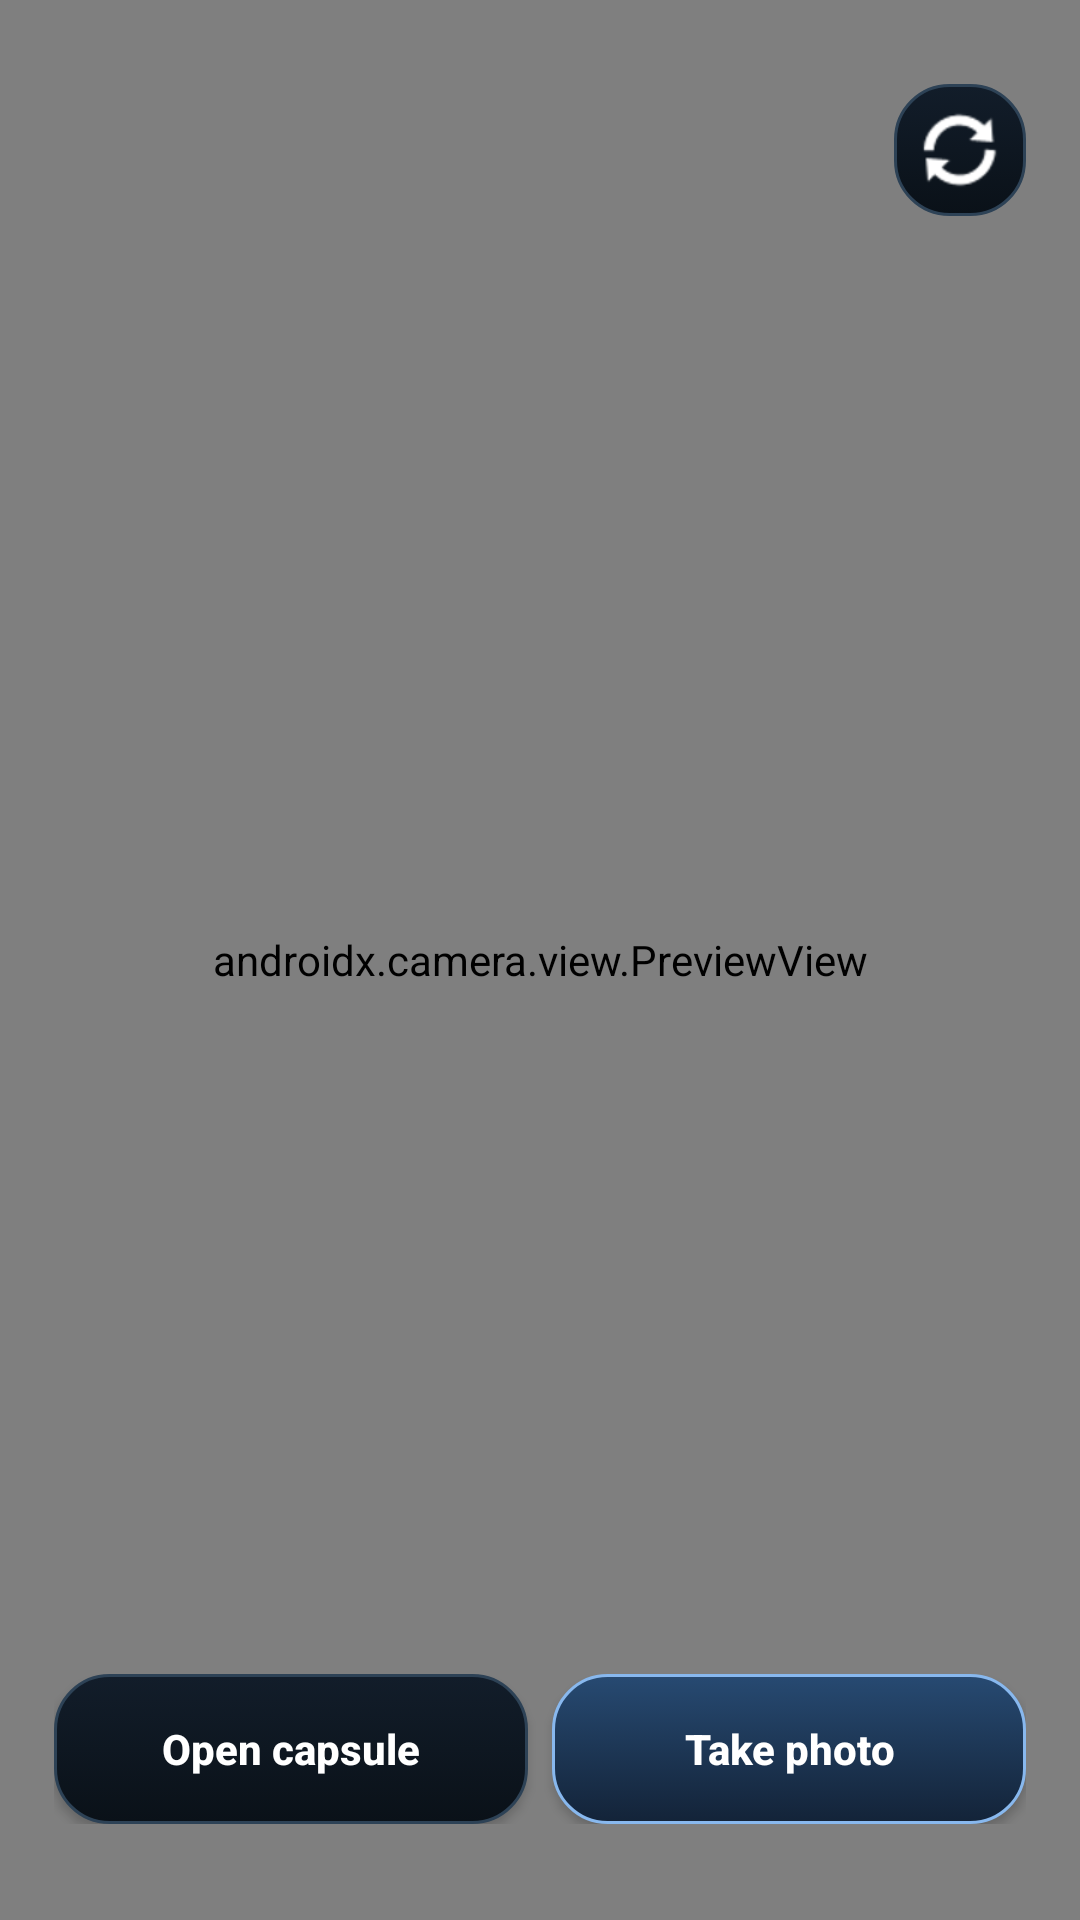

Screen size 1080w x 1920h. Icon name, then its box in pixels as BBox(x1, y1, x2, y2):
Switch camera: BBox(894, 84, 1026, 216)
